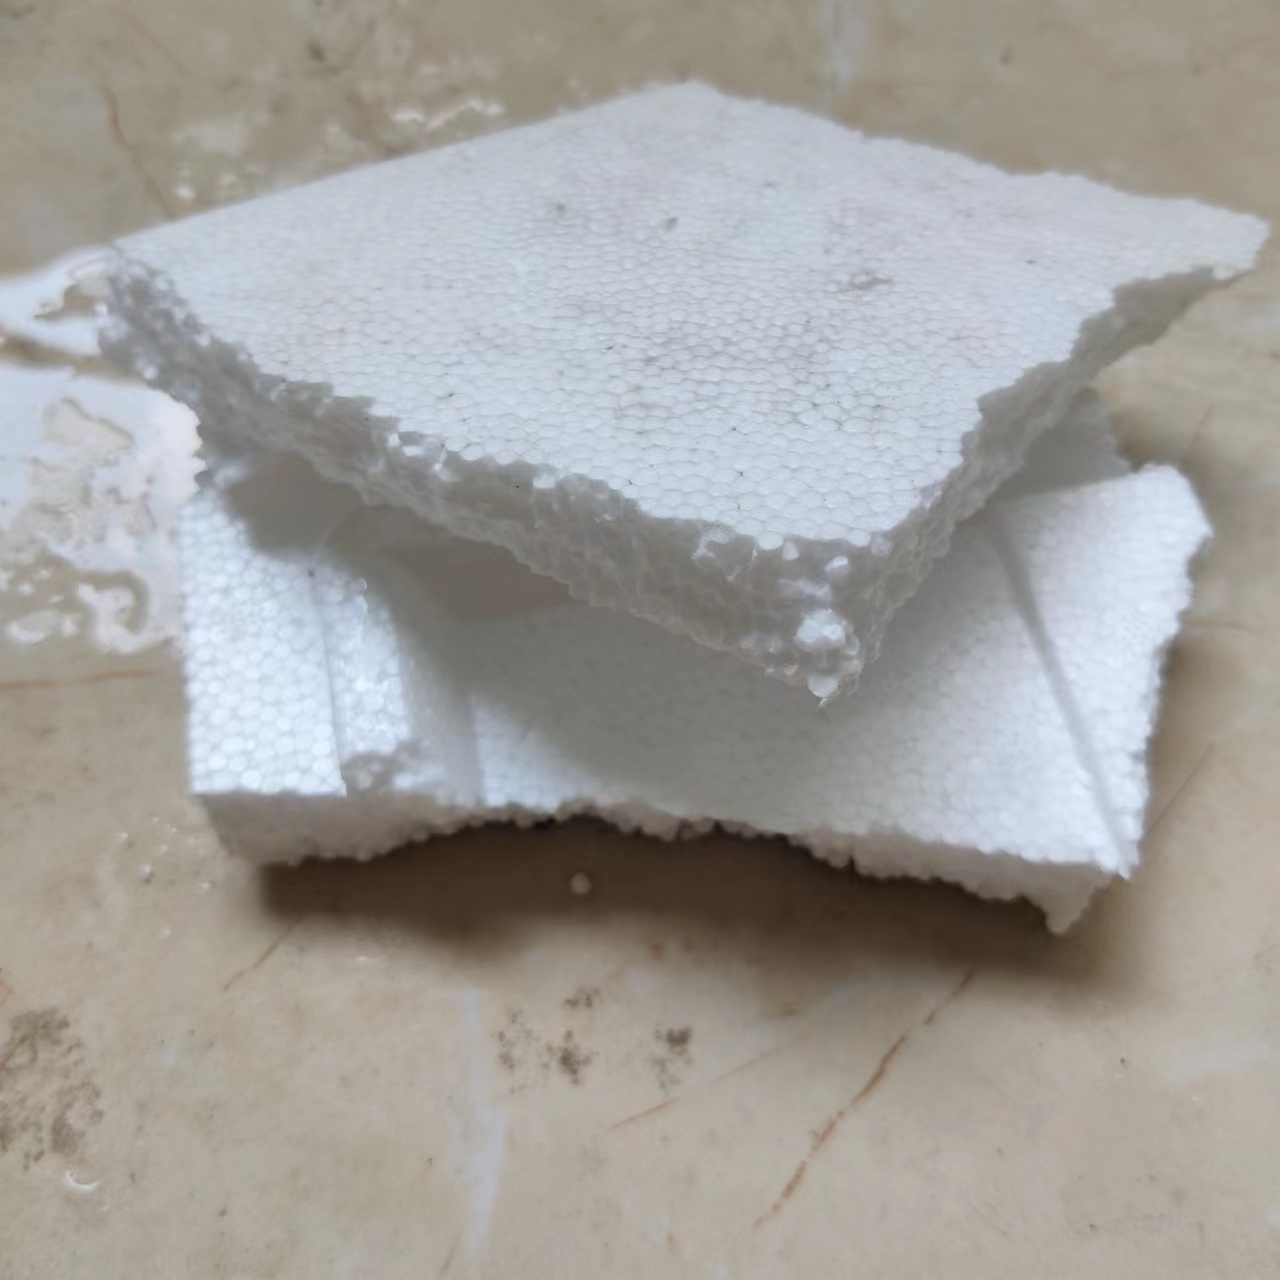5/可回收垃圾/泡沫: (91, 79, 1272, 701), (173, 387, 1216, 937)
